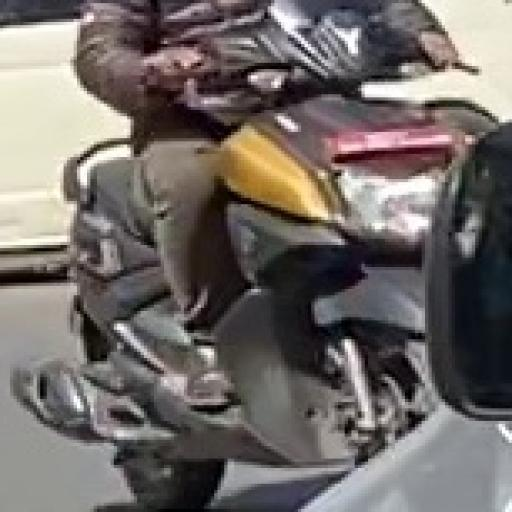license_plate: (322, 124, 461, 157)
